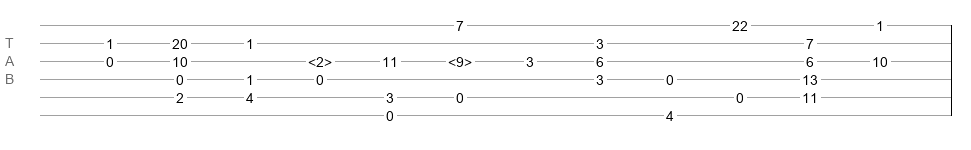0: (106, 54, 114, 64), (176, 72, 184, 82), (316, 72, 324, 82), (386, 108, 394, 118), (456, 90, 464, 100), (666, 72, 674, 82), (736, 90, 744, 100)
1: (106, 36, 114, 46), (246, 72, 254, 82), (246, 36, 254, 46), (876, 18, 884, 28)
10: (172, 54, 188, 64), (872, 54, 888, 64)
11: (382, 54, 398, 64), (802, 90, 818, 100)
13: (802, 72, 818, 82)
2: (176, 90, 184, 100)
20: (172, 36, 188, 46)
22: (732, 18, 748, 28)
3: (386, 90, 394, 100), (526, 54, 534, 64), (596, 72, 604, 82), (596, 36, 604, 46)
4: (246, 90, 254, 100), (666, 108, 674, 118)
6: (596, 54, 604, 64), (806, 54, 814, 64)
7: (456, 18, 464, 28), (806, 36, 814, 46)
harmonic: (308, 54, 332, 64), (448, 54, 472, 64)
